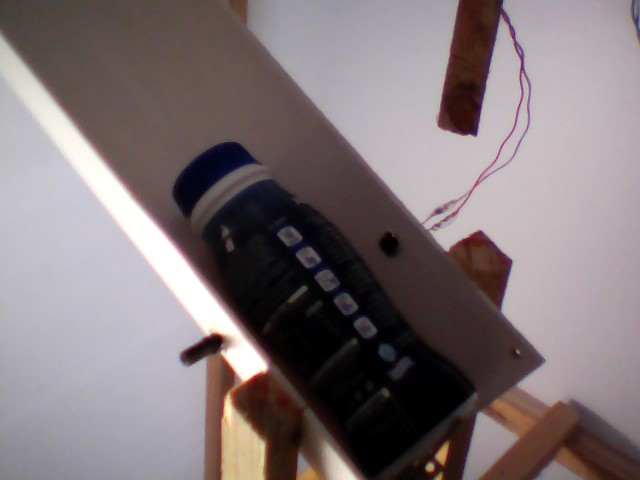plastico: (170, 136, 482, 480)
